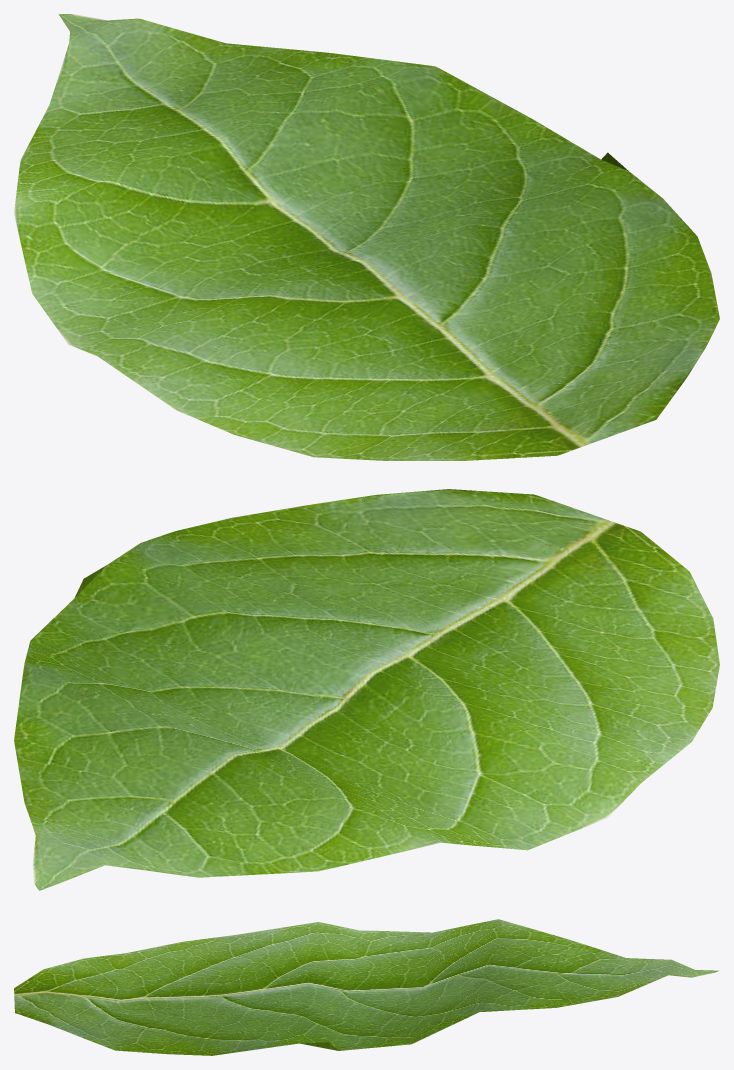
Rendered from bazylia.gltf.
The picture shows the model from 3 angles, top to bottom: view 1: azimuth 30°, elevation 25°; view 2: azimuth 150°, elevation 25°; view 3: azimuth 270°, elevation 25°; orthographic projection. The views are drawn at different scales.
Visible parts, largest first — view 1: roslina.001; view 2: roslina.001; view 3: roslina.001.
Boxes of the visible parts, x1,y1,x2,y2 form: roslina.001: (14, 14, 719, 460); roslina.001: (14, 489, 719, 890); roslina.001: (14, 919, 719, 1055).
Bounding box in the file's own units: 1.43 × 0.2652 × 2.54.
1 material, 1 textured.
